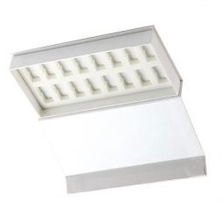book: (3, 22, 213, 200)
